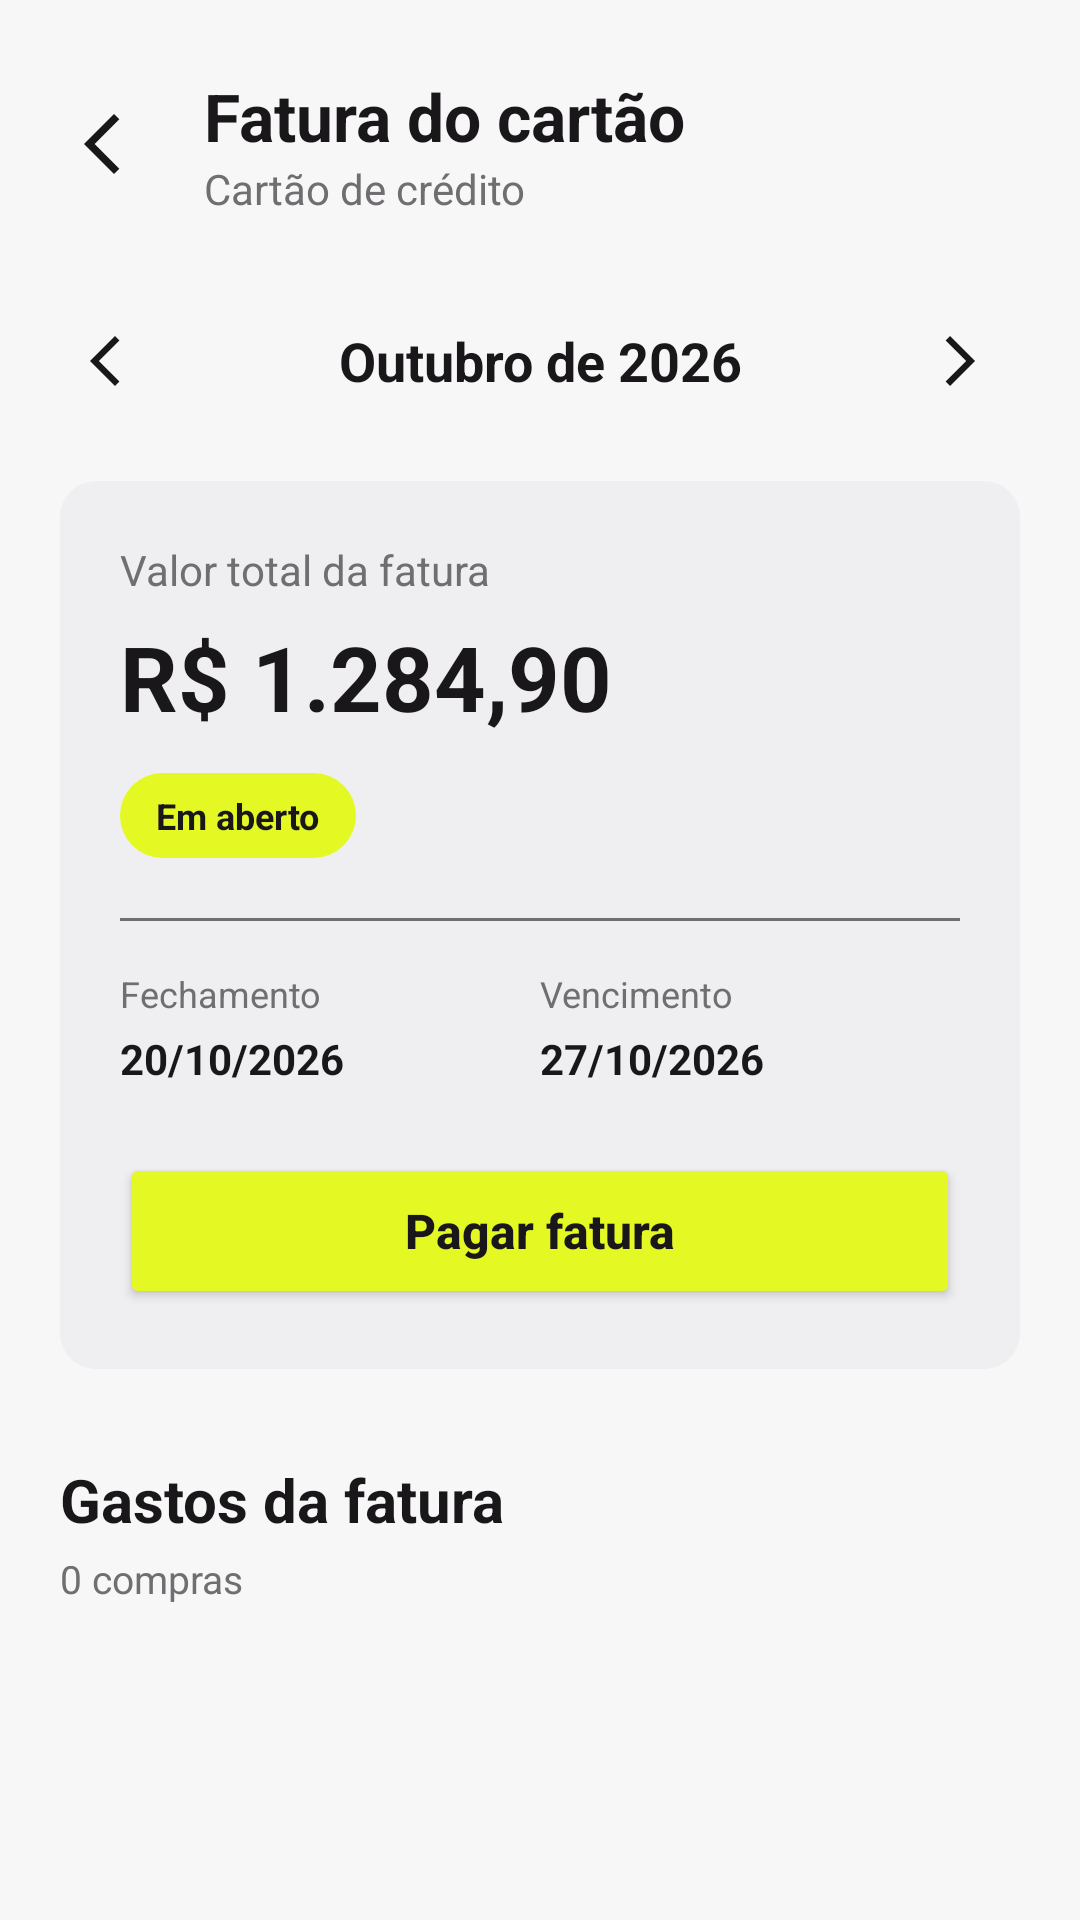

Named icons in this screenshot (1080×1920) and their centers, [x,y]:
Fatura anterior: [105,361]
Próxima fatura: [960,361]
Voltar: [101,144]
